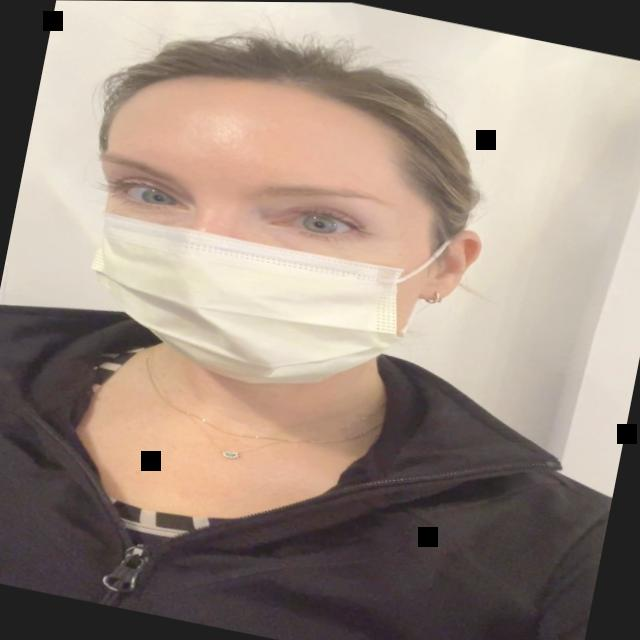Mask: (26, 18, 527, 441)
